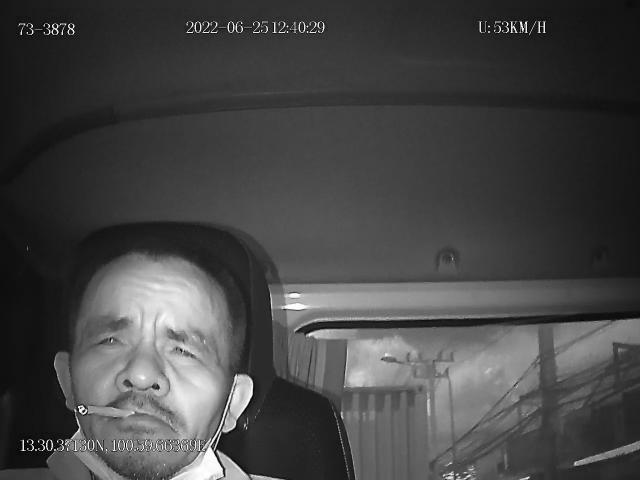SafeDriving: (163, 328, 209, 372), (84, 320, 132, 358)
Smoking: (78, 400, 138, 420)
